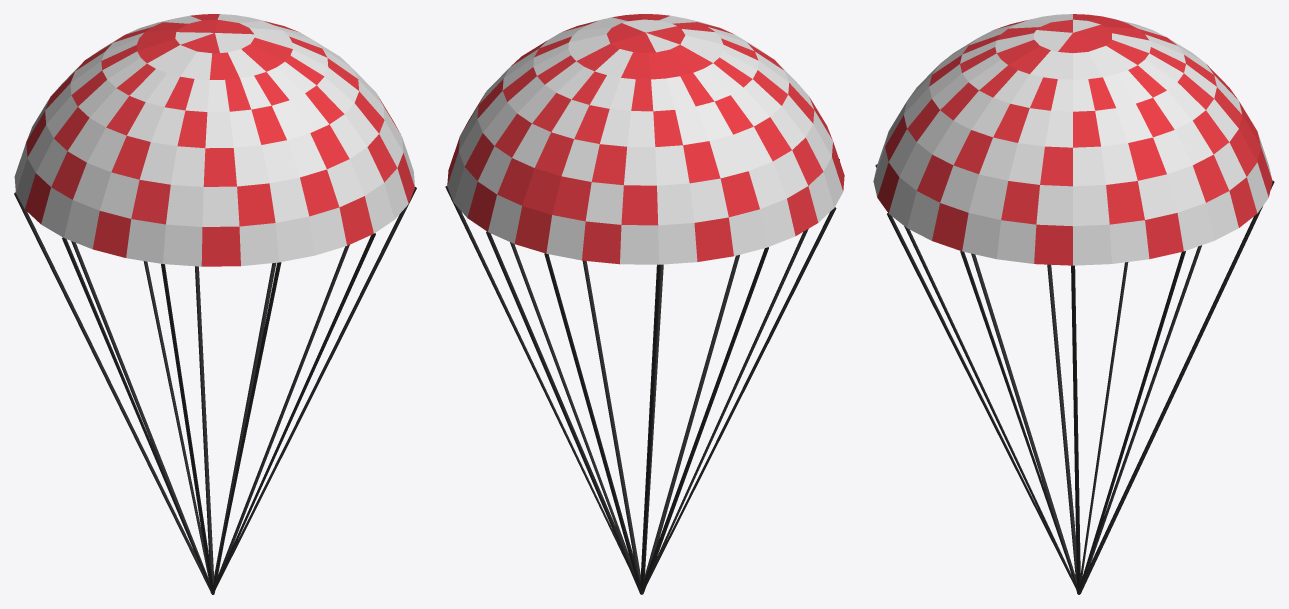
File: parachute.glb
3 renders of one model, left to right at view 1: azimuth 30°, elevation 25°; view 2: azimuth 150°, elevation 25°; view 3: azimuth 270°, elevation 25°, orthographic.
Visible parts, largest first — view 1: parachute.002; view 2: parachute.002; view 3: parachute.002.
Part boxes in pixels (x1,y1,x2,y2): parachute.002: (14,14,416,594); parachute.002: (445,14,844,594); parachute.002: (873,14,1274,594).
Bounding box in the file's own units: 4.98 × 7.7 × 4.98.
